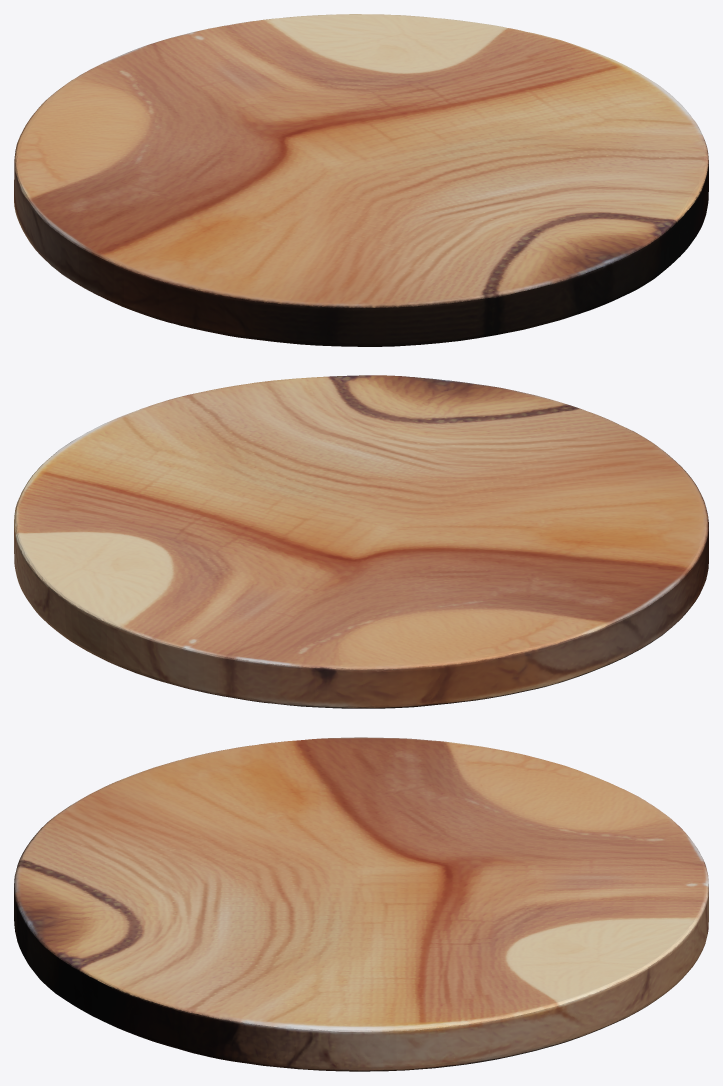
File: wooden-wireless-charger-futuristic.jpeg.glb
The picture shows the model from 3 angles, top to bottom: view 1: azimuth 30°, elevation 25°; view 2: azimuth 150°, elevation 25°; view 3: azimuth 270°, elevation 25°; orthographic projection.
Visible parts, largest first — view 1: world; view 2: world; view 3: world.
Part boxes in pixels (x1=…): world: x1=14, y1=14, x2=708, y2=346; world: x1=14, y1=375, x2=708, y2=708; world: x1=14, y1=737, x2=708, y2=1071.
Size of the model in its own units: 1 by 0.0693 by 1.
1 material, 1 textured.
